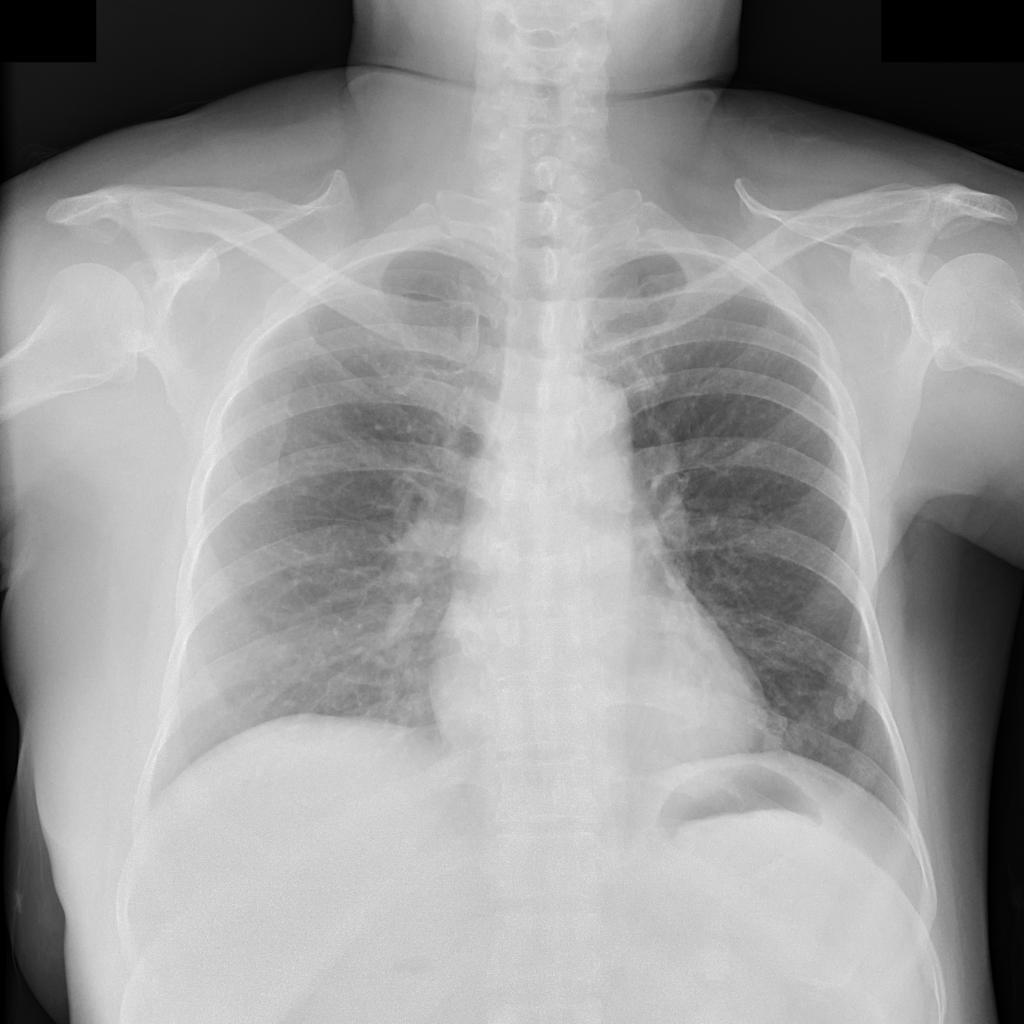Nodule: (832, 665, 869, 726), (853, 642, 869, 655)
